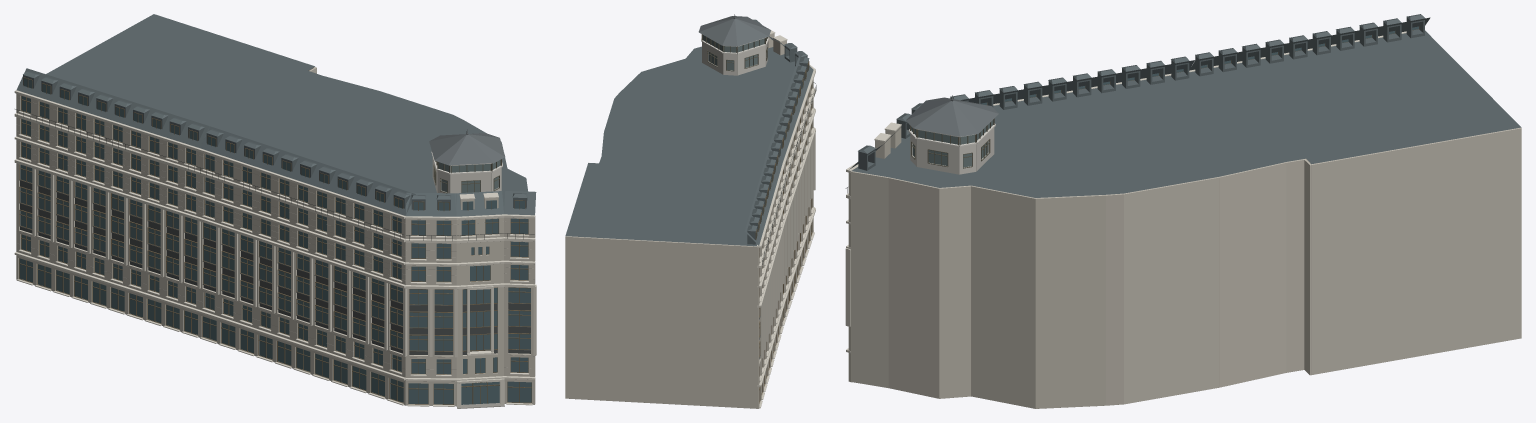
File: 61a-exterior-9076b3c0c065.glb
3 renders of one model, left to right at view 1: azimuth 30°, elevation 25°; view 2: azimuth 150°, elevation 25°; view 3: azimuth 270°, elevation 25°, orthographic. The views are drawn at different scales.
Parts seen in each view (by area): view 1: 61A.001; view 2: 61A.001; view 3: 61A.001.
Part boxes in pixels (left/top/right/bottom): 61A.001: left=14, top=14, right=536, bottom=408; 61A.001: left=565, top=14, right=816, bottom=408; 61A.001: left=845, top=14, right=1521, bottom=408.
Size of the model in its own units: 51.25 by 38.48 by 85.72.
